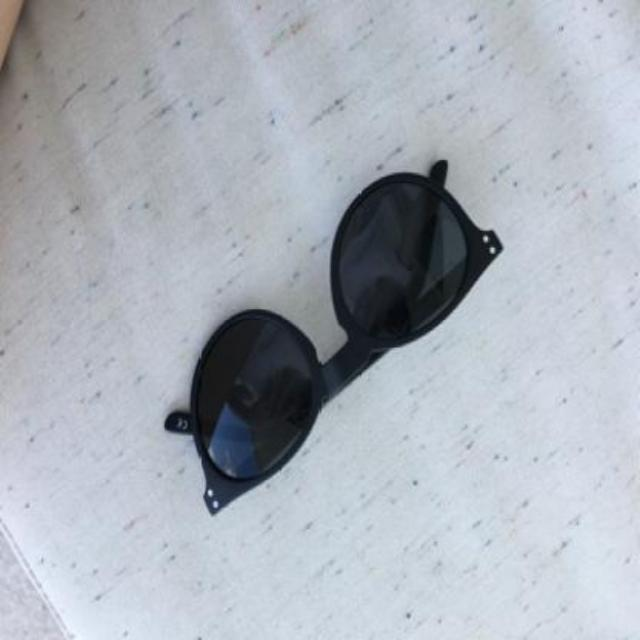glasses: (163, 158, 503, 514)
